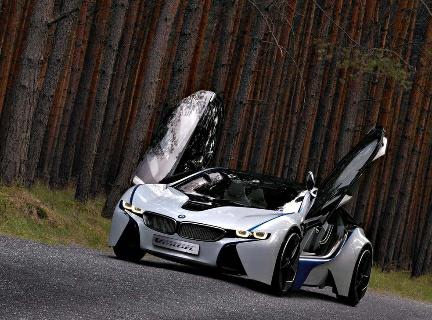宝马-EfficientDynamics: (106, 160, 378, 308)
